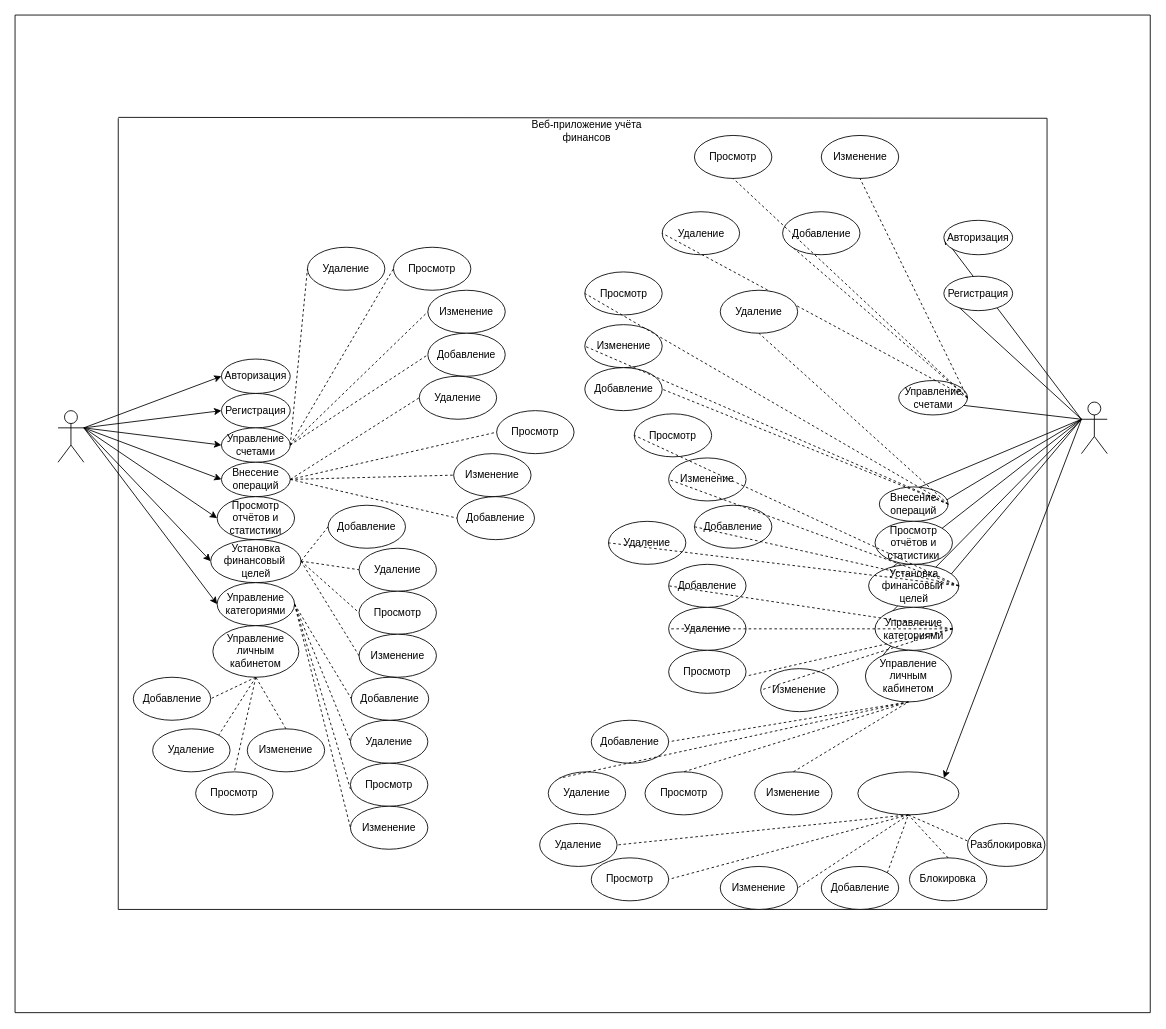
This 1166x1029 diagram has some shape labels left out. The shapes that lost their labels are listed below. From the top down, each one's centre as x and y in pixels, then its label:
(x=70, y=436): Пользователь
(x=1094, y=427): Администратор
(x=908, y=793): Управление пользователями
